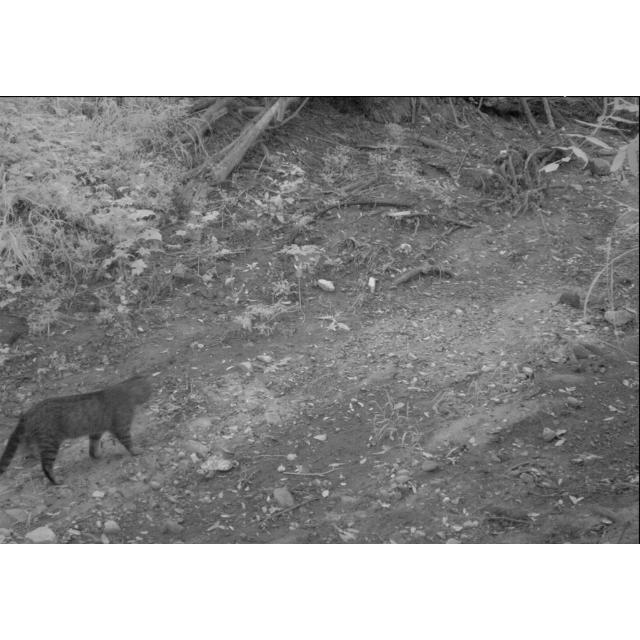animals: (0, 369, 158, 489)
